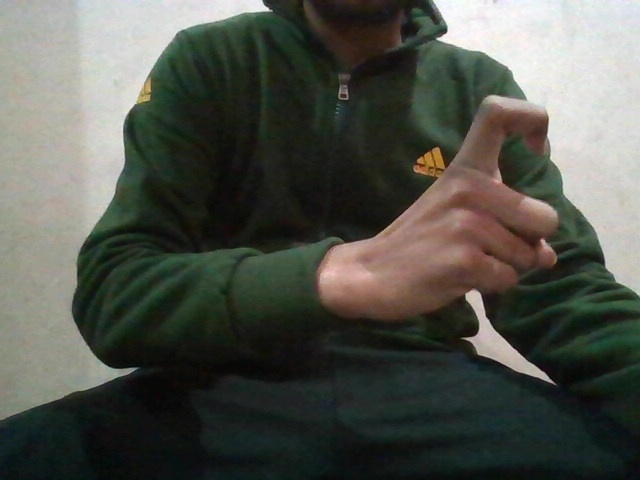P: (410, 93, 578, 317)
